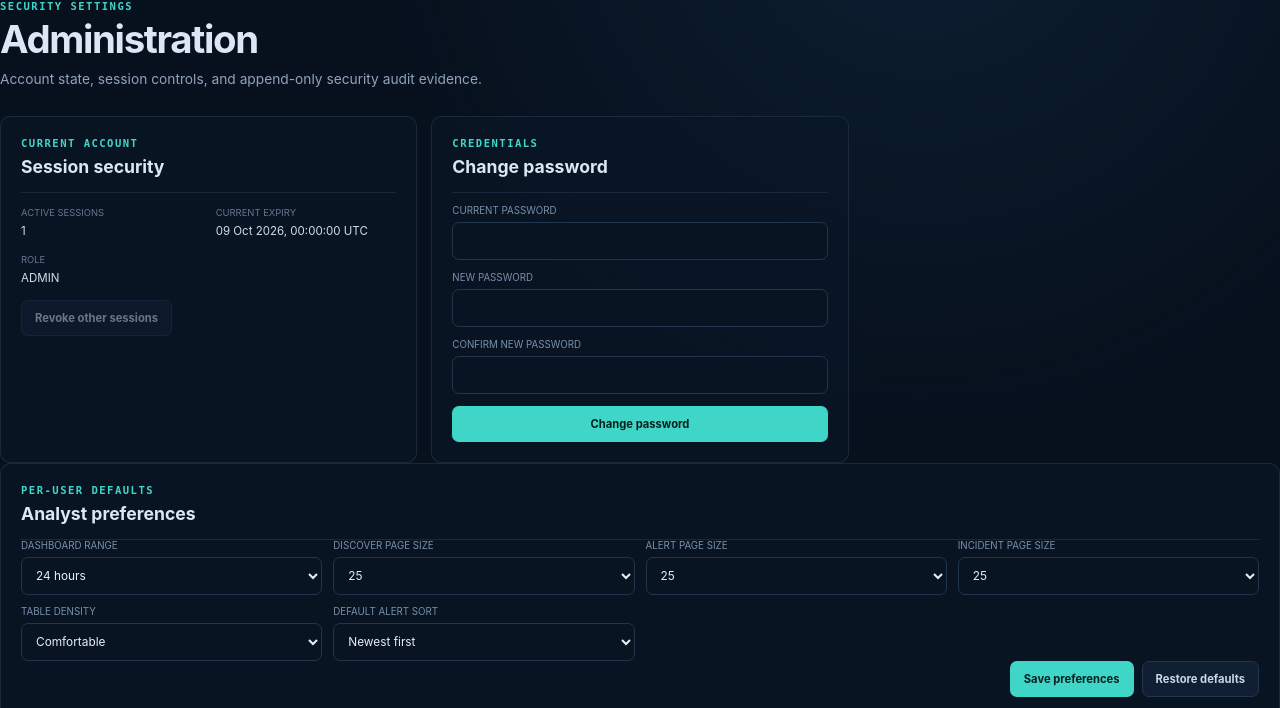
AdministrationPage › shows bounded account state and changes the current analyst password
This screenshot has width=1280, height=708.
Expected: the text "Active sessions" is shown, [21,208,104,218]
Type "old-password" into the password field labelled "Current password" at (640, 242), box [452,222,828,260]
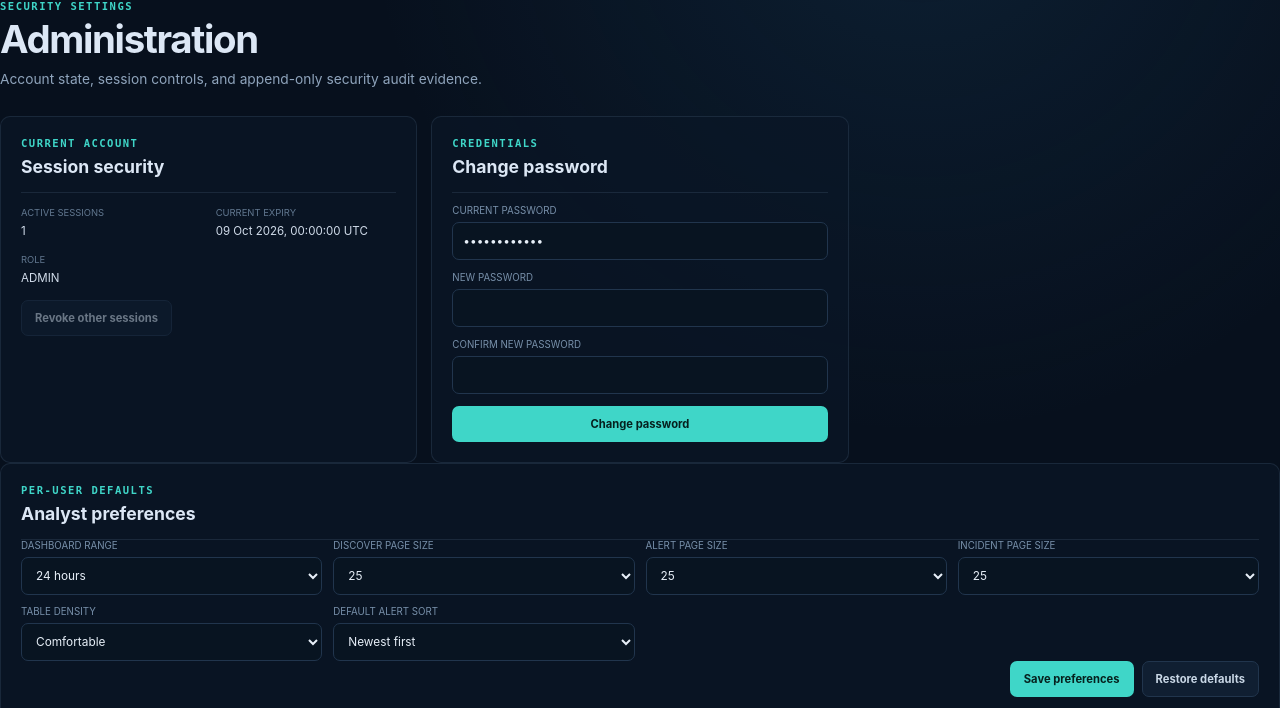
Type "new-password-value" into the password field labelled "New password" at (640, 308), box [452,290,828,328]
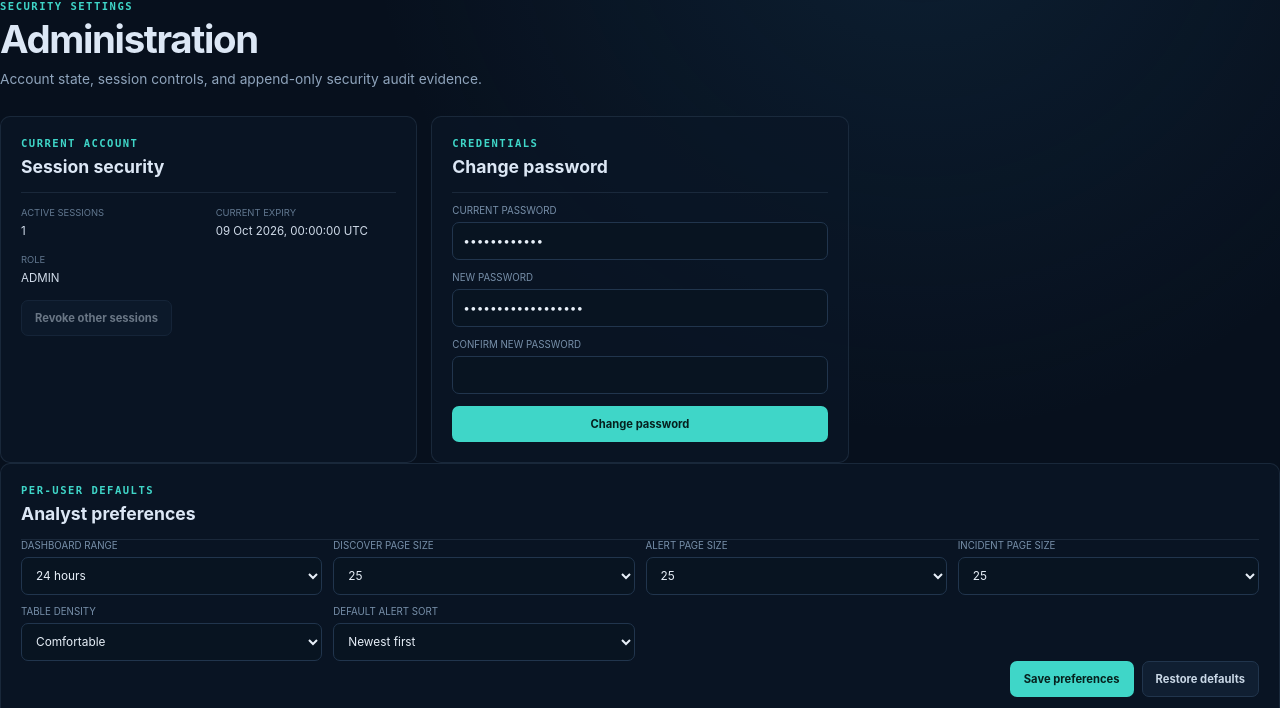
Type "new-password-value" into the password field labelled "Confirm new password" at (640, 376), box [452,356,828,394]
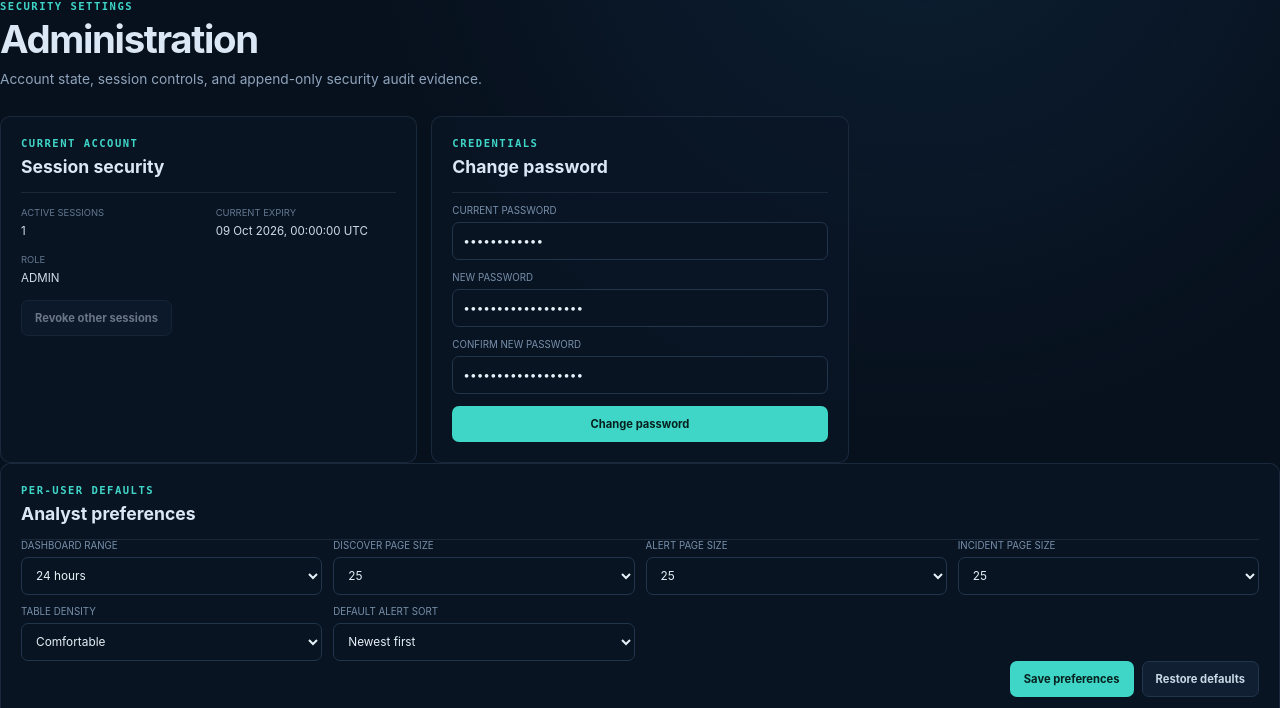
Click the button "Change password" at (640, 424), box [452,406,828,442]
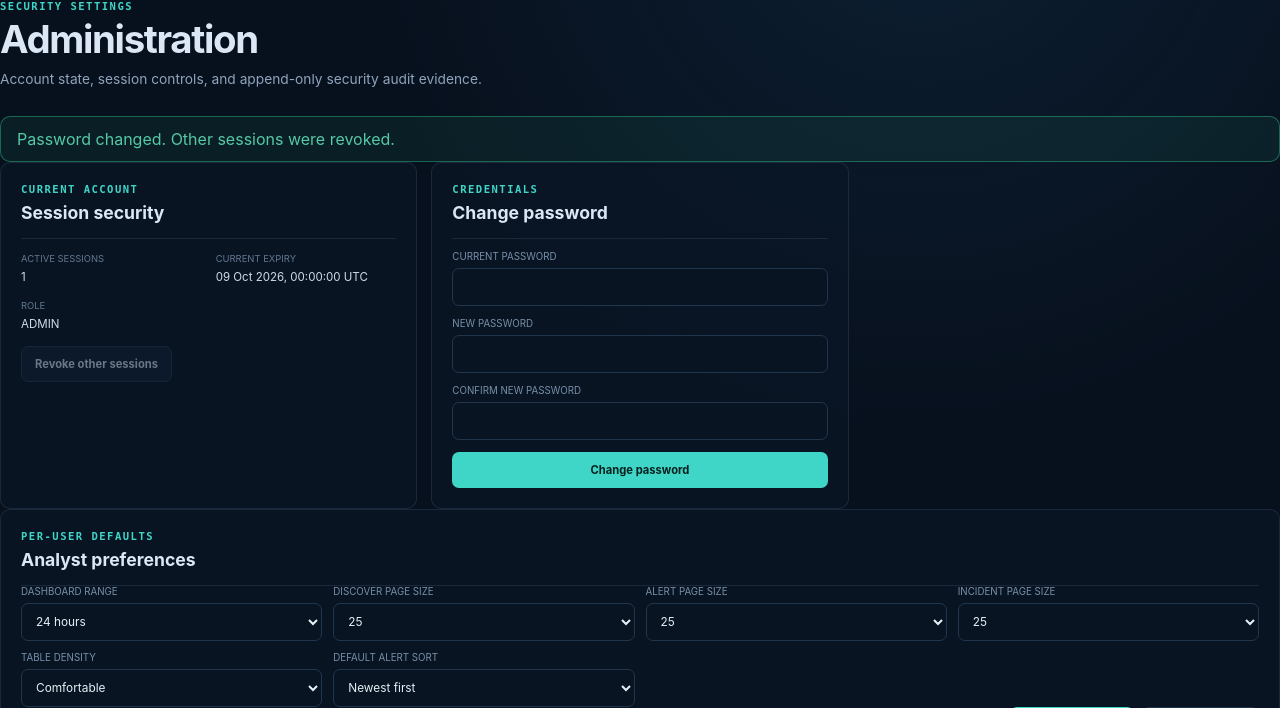
Result: the text "Password changed. Other sessions were revoked." is shown at [0,116,1279,162]
